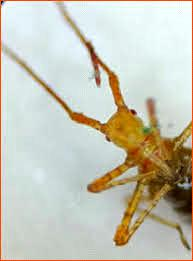Helopeltis-insect: (72, 72, 193, 245)
